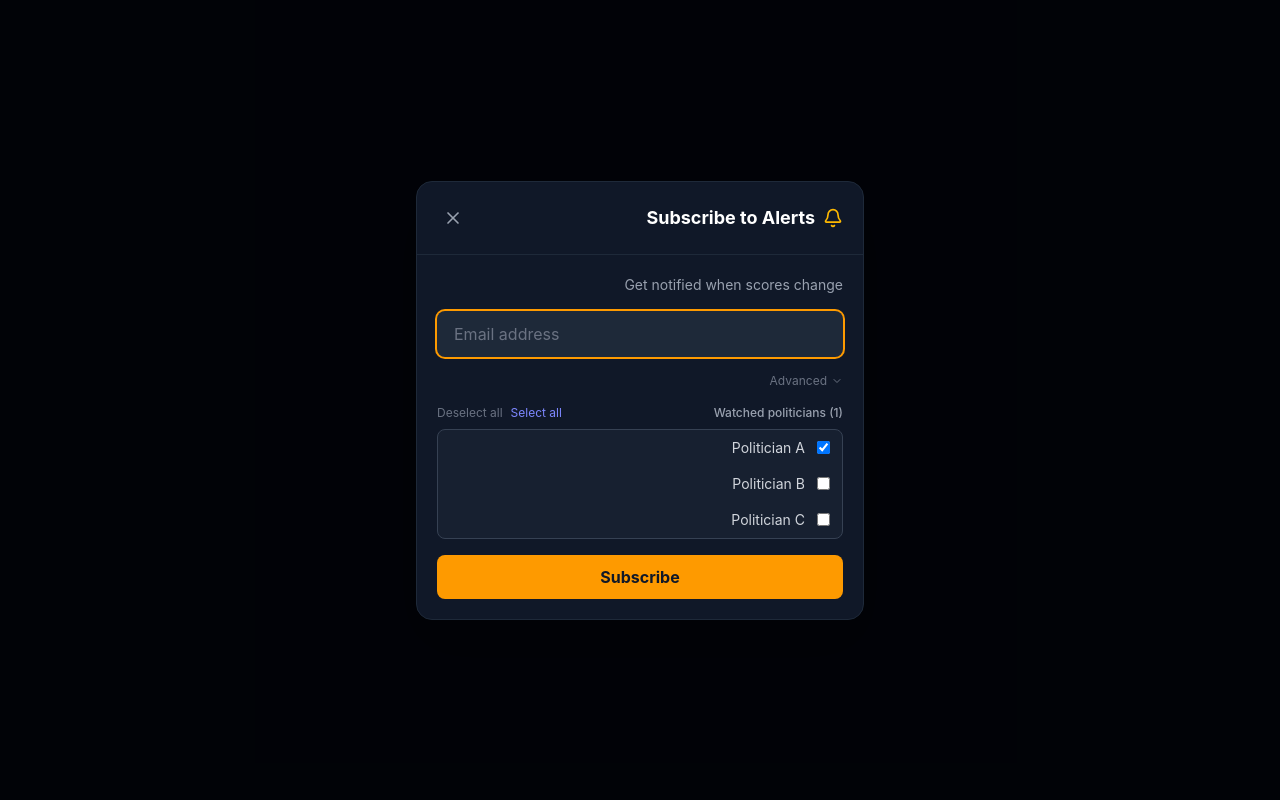
Test case: AlertSubscriptionModal › shows success message after successful subscribe
In the field with placeholder "Email address": (640, 334) [437,310,843,356], type "user@test.com"
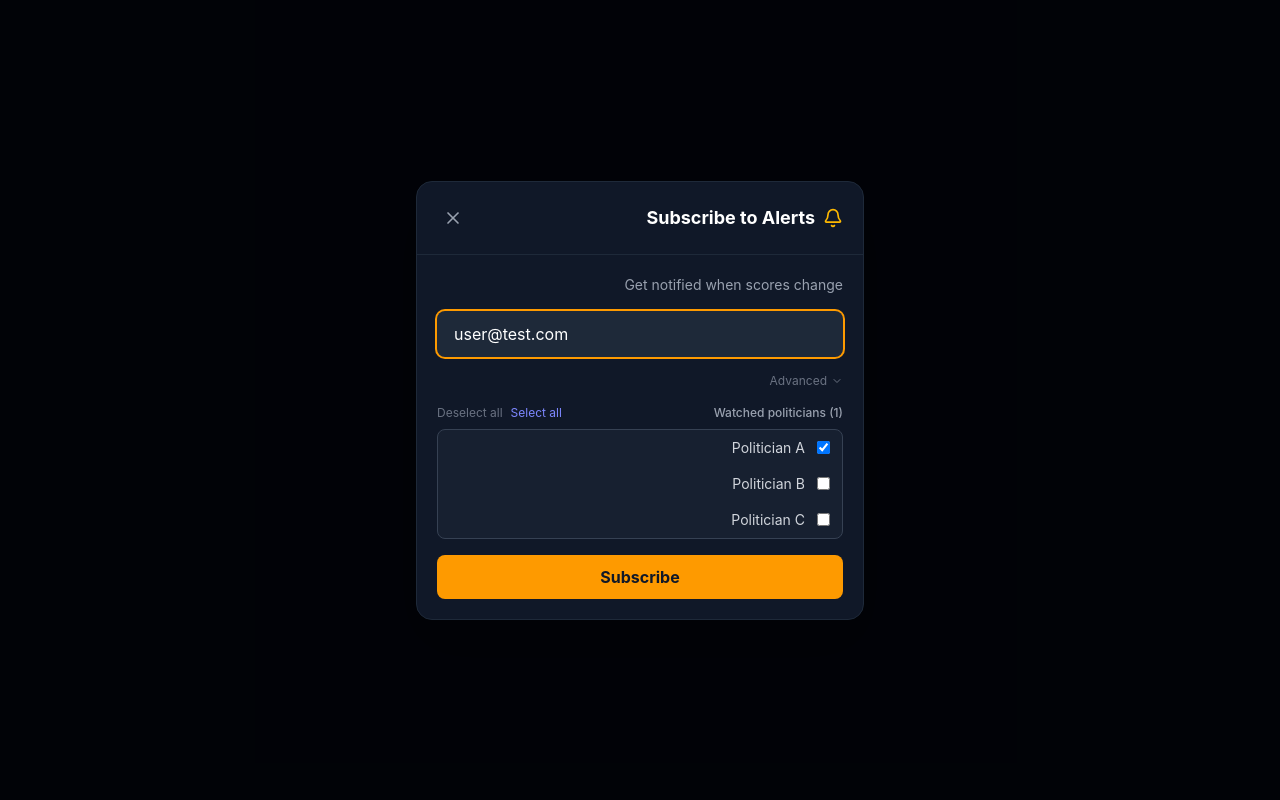
Click the button "Subscribe": (640, 576) [437,554,843,598]
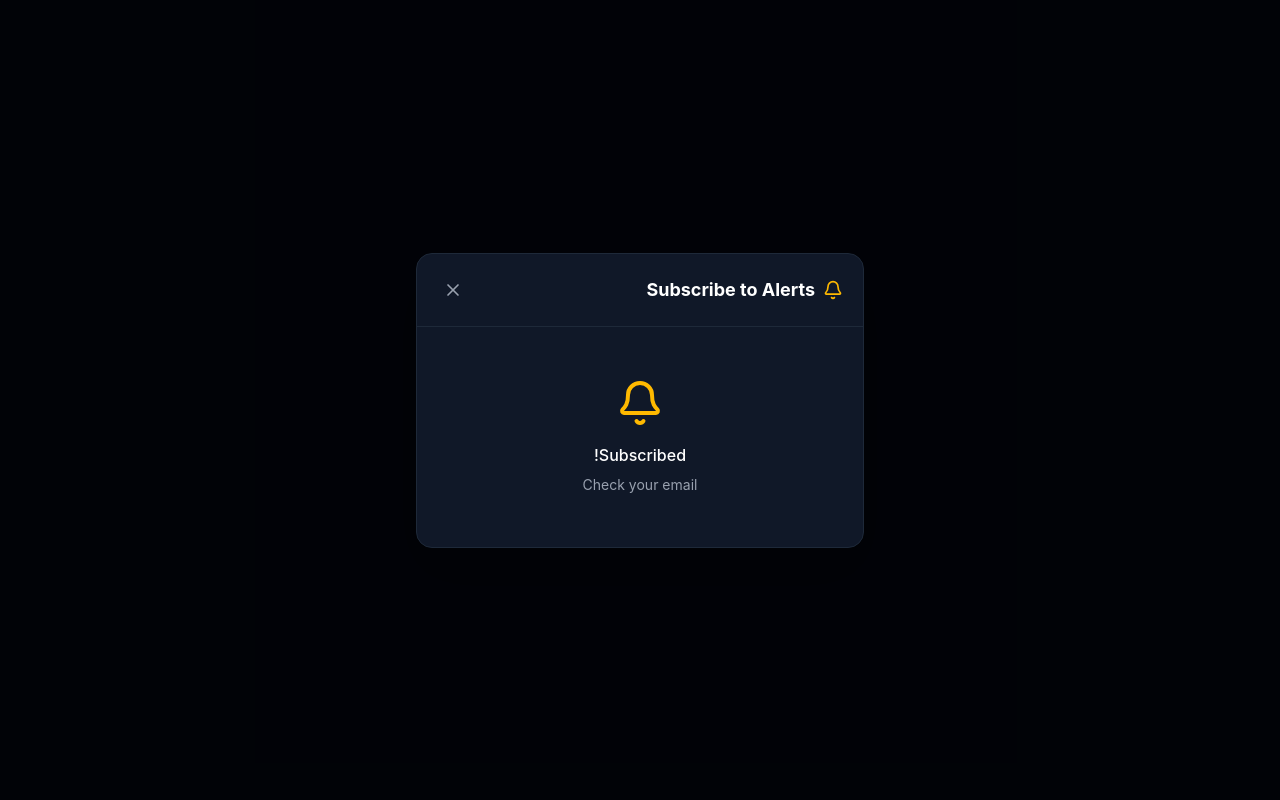
Expected: the text "Subscribed!" is shown, [594,444,686,464]
Expected: the text "Check your email" is shown, [583,476,697,492]
